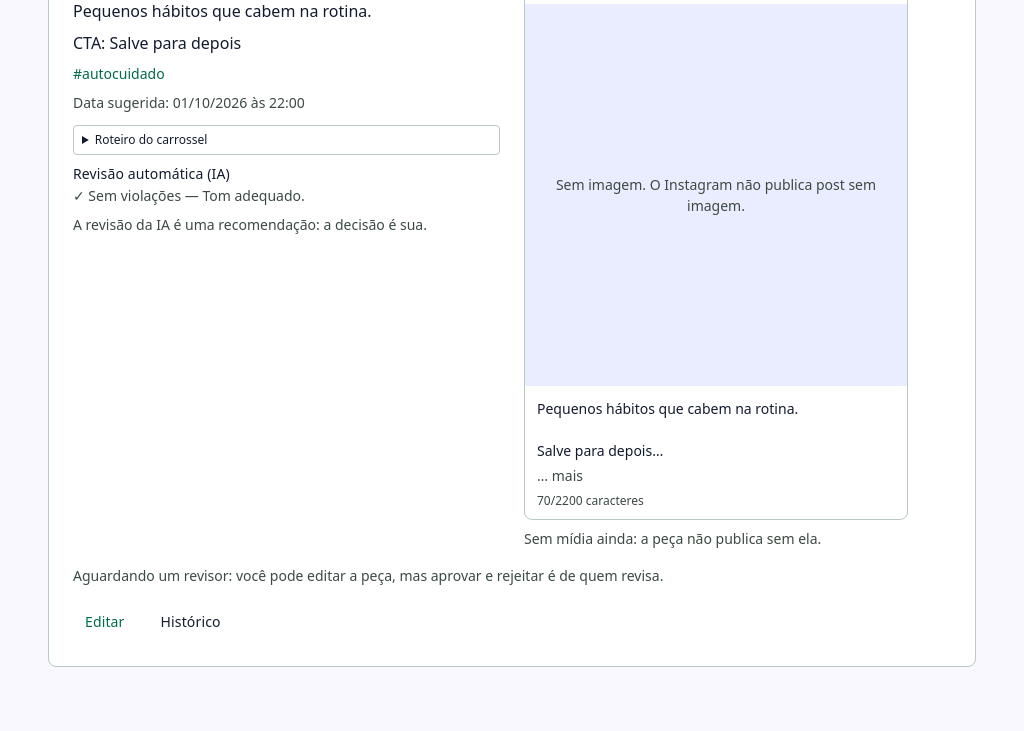
leitor vê o histórico mas não restaura
The width and height of the screenshot is (1024, 731).
(page scrolled)
Click the button "Histórico" at (191, 622), box [144,602,237,642]
(page scrolled)
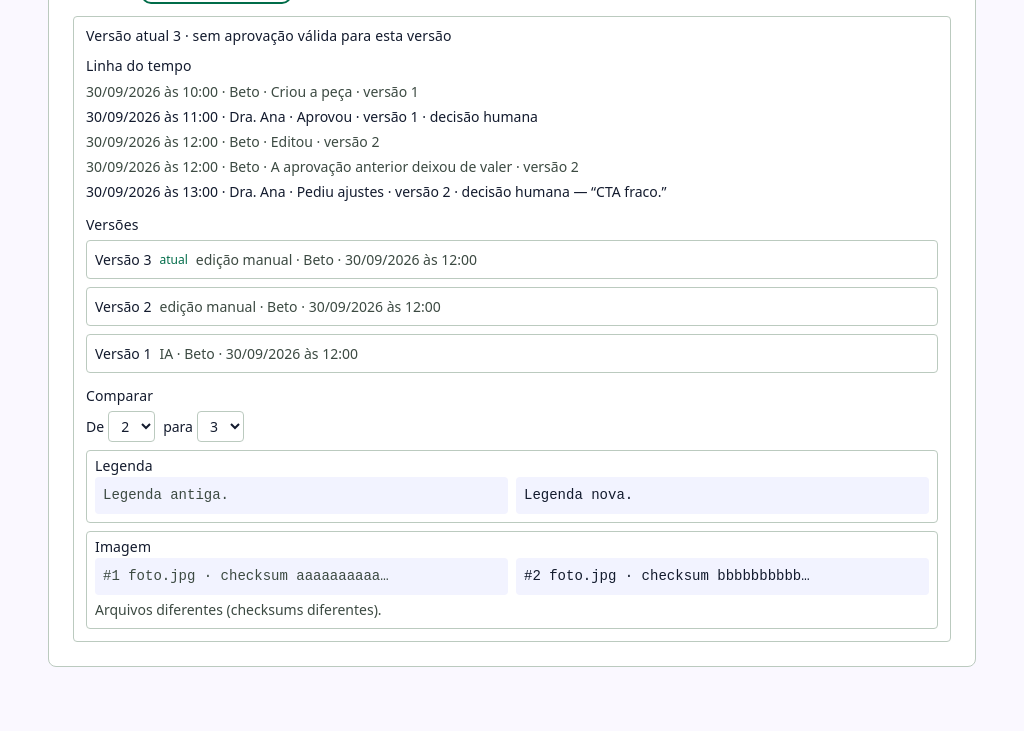
Expected: the text "Versão 1" is shown, [95,343,152,364]
